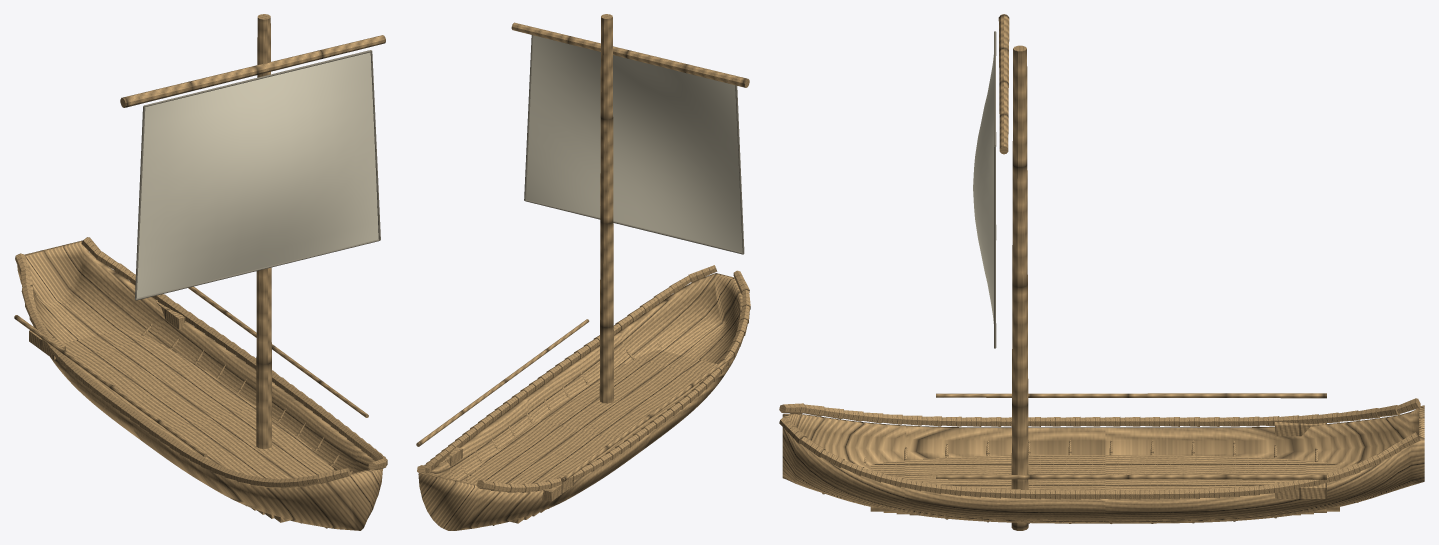
The model's file is ship.glb.
3 views of the same model, side by side, from view 1: azimuth 30°, elevation 25°; view 2: azimuth 150°, elevation 25°; view 3: azimuth 270°, elevation 25° (orthographic). The views are drawn at different scales.
Parts seen in each view (by area): view 1: Sail_1, Hull_shell, Cockpit_sole, Mast, Yard, Oar, Oar.001, Bolt_Sail_1.002, Bolt_Sail_1, Bolt_Sail_1.003, Bolt_Sail_1.001; view 2: Sail_1, Hull_shell, Cockpit_sole, Mast, Yard, Oar.001, Oar, Bolt_Sail_1, Bolt_Sail_1.003, Bolt_Sail_1.001; view 3: Hull_shell, Cockpit_sole, Mast, Sail_1, Oar.001, Oar, Yard.
Part boxes in pixels (bbox=[...]): Sail_1: bbox=[137, 52, 378, 297]; Hull_shell: bbox=[17, 240, 382, 530]; Cockpit_sole: bbox=[62, 328, 334, 522]; Mast: bbox=[256, 14, 271, 448]; Yard: bbox=[120, 35, 385, 107]; Oar: bbox=[14, 315, 207, 457]; Oar.001: bbox=[188, 286, 368, 417]; Bolt_Sail_1.002: bbox=[144, 50, 371, 106]; Bolt_Sail_1: bbox=[135, 239, 379, 300]; Bolt_Sail_1.003: bbox=[135, 106, 145, 299]; Bolt_Sail_1.001: bbox=[370, 51, 380, 240]; Sail_1: bbox=[526, 35, 742, 252]; Hull_shell: bbox=[418, 273, 742, 530]; Cockpit_sole: bbox=[464, 350, 717, 523]; Mast: bbox=[599, 14, 613, 403]; Yard: bbox=[511, 22, 749, 87]; Oar.001: bbox=[416, 319, 589, 446]; Oar: bbox=[561, 354, 733, 481]; Bolt_Sail_1: bbox=[525, 200, 743, 254]; Bolt_Sail_1.003: bbox=[735, 85, 744, 253]; Bolt_Sail_1.001: bbox=[524, 35, 533, 200]; Hull_shell: bbox=[782, 405, 1424, 523]; Cockpit_sole: bbox=[870, 455, 1339, 515]; Mast: bbox=[1011, 45, 1028, 530]; Sail_1: bbox=[973, 55, 993, 323]; Oar.001: bbox=[936, 474, 1326, 479]; Oar: bbox=[936, 393, 1326, 398]; Yard: bbox=[998, 14, 1009, 154].
Size of the model in its own units: 3.1 by 5.27 by 6.44.
7 materials, 5 textured.
